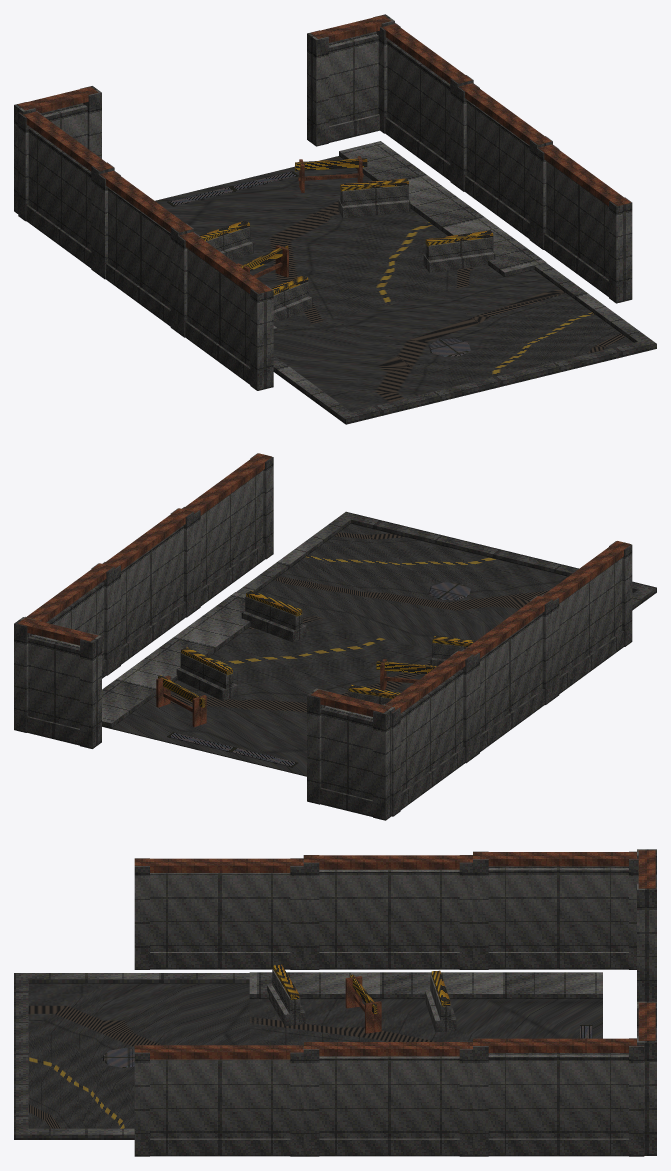
The model's file is etip_muros_barreiras.obj.
The picture shows the model from 3 angles, top to bottom: view 1: azimuth 30°, elevation 25°; view 2: azimuth 150°, elevation 25°; view 3: azimuth 270°, elevation 25°; orthographic projection. The views are drawn at different scales.
Parts seen in each view (by area): view 1: PS2_Mat_Concreto_Bruto_Group, PS2_Mat_Asfalto_Via_Group, PS2_Mat_Metal_Ferrugem_Group, PS2_Mat_Advertencia_Group, PS2_Mat_AcoEscuro_Group; view 2: PS2_Mat_Concreto_Bruto_Group, PS2_Mat_Asfalto_Via_Group, PS2_Mat_Metal_Ferrugem_Group, PS2_Mat_Advertencia_Group, PS2_Mat_AcoEscuro_Group; view 3: PS2_Mat_Concreto_Bruto_Group, PS2_Mat_Asfalto_Via_Group, PS2_Mat_Metal_Ferrugem_Group, PS2_Mat_Advertencia_Group, PS2_Mat_AcoEscuro_Group.
Part boxes in pixels (x1=…): PS2_Mat_Concreto_Bruto_Group: x1=14, y1=14, x2=656, y2=424; PS2_Mat_Asfalto_Via_Group: x1=155, y1=156, x2=633, y2=411; PS2_Mat_Metal_Ferrugem_Group: x1=17, y1=15, x2=630, y2=293; PS2_Mat_Advertencia_Group: x1=199, y1=158, x2=493, y2=295; PS2_Mat_AcoEscuro_Group: x1=167, y1=171, x2=470, y2=356; PS2_Mat_Concreto_Bruto_Group: x1=14, y1=453, x2=656, y2=820; PS2_Mat_Asfalto_Via_Group: x1=111, y1=523, x2=633, y2=776; PS2_Mat_Metal_Ferrugem_Group: x1=17, y1=453, x2=631, y2=726; PS2_Mat_Advertencia_Group: x1=158, y1=590, x2=475, y2=707; PS2_Mat_AcoEscuro_Group: x1=167, y1=582, x2=470, y2=767; PS2_Mat_Concreto_Bruto_Group: x1=14, y1=849, x2=656, y2=1156; PS2_Mat_Asfalto_Via_Group: x1=28, y1=983, x2=602, y2=1128; PS2_Mat_Metal_Ferrugem_Group: x1=134, y1=850, x2=655, y2=1059; PS2_Mat_Advertencia_Group: x1=273, y1=964, x2=450, y2=1013; PS2_Mat_AcoEscuro_Group: x1=101, y1=1025, x2=592, y2=1067.
Size of the model in its own units: 12.54 by 3.41 by 17.47.
5 materials, 5 textured.
